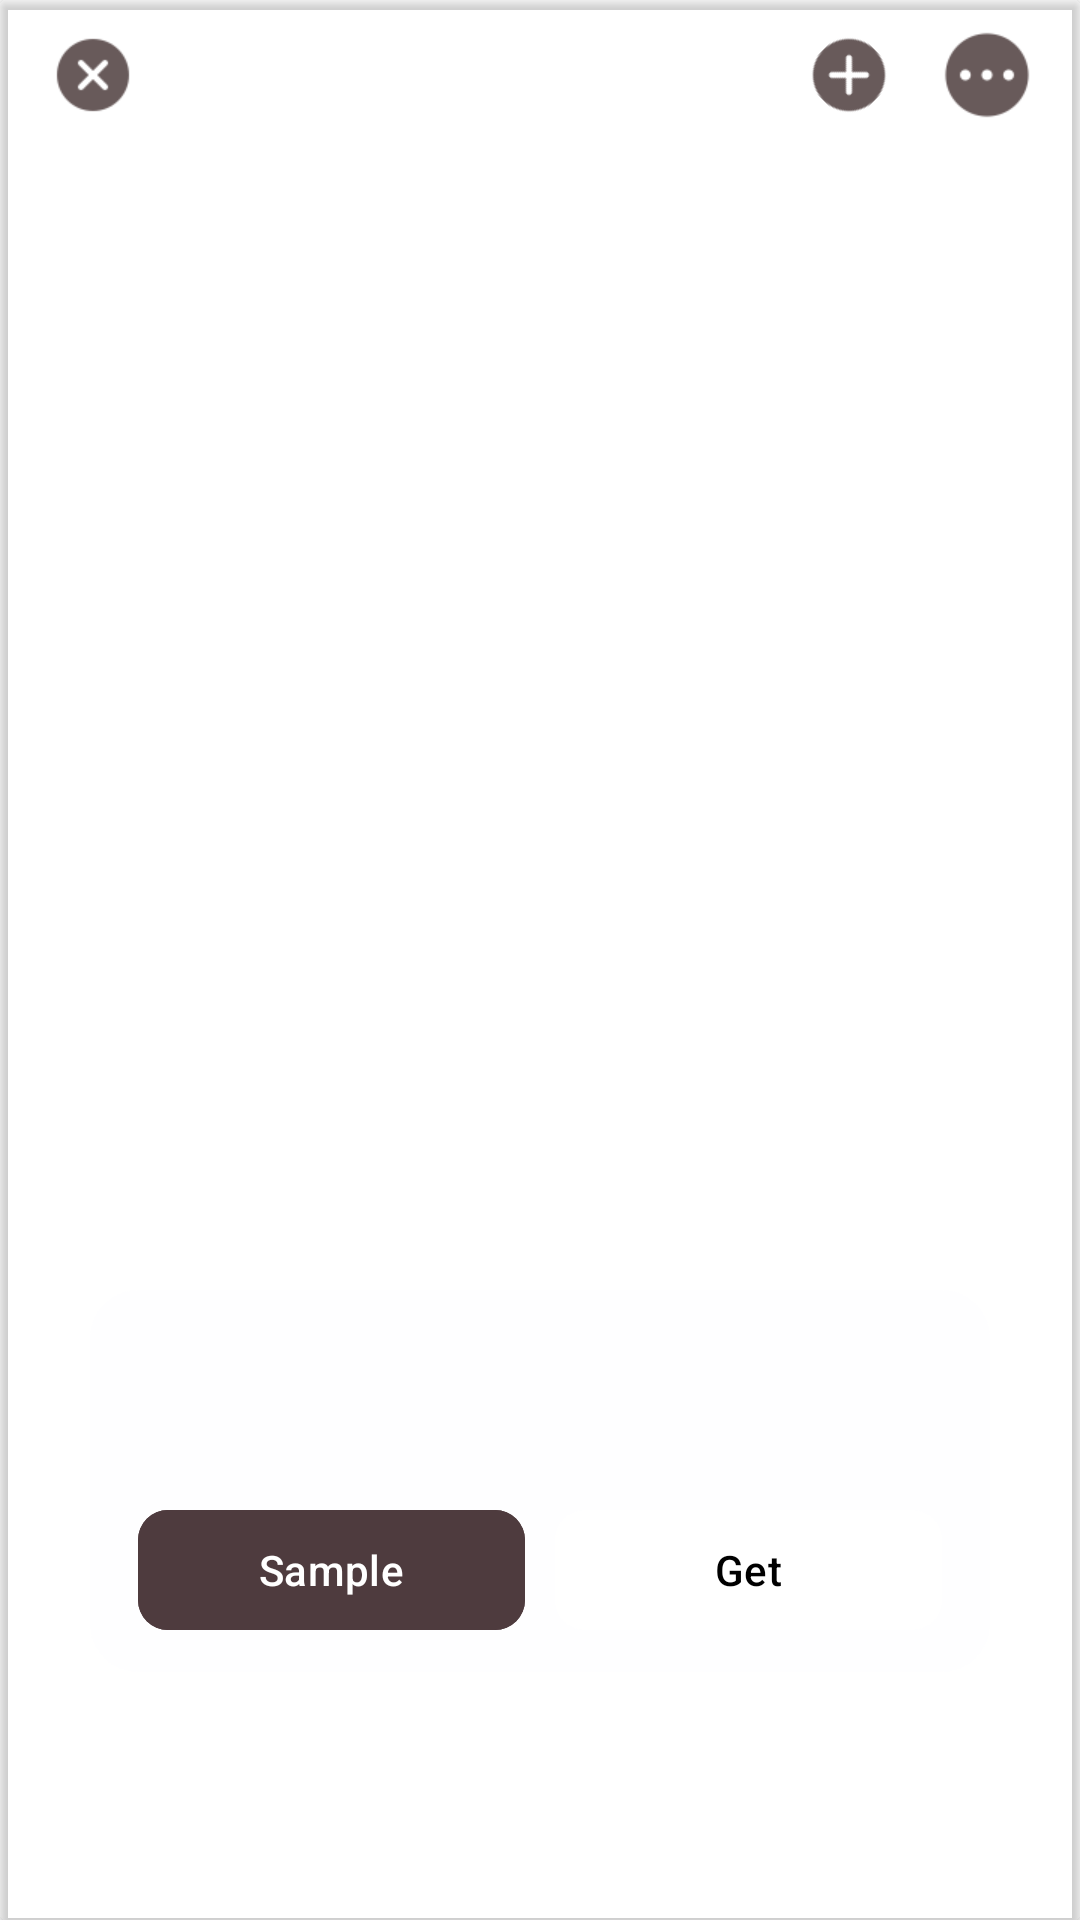

Screen size 1080*1920. Icon name, then its box in pixels as (x1, y1, x2, y2):
more: (945, 33, 1029, 117)
